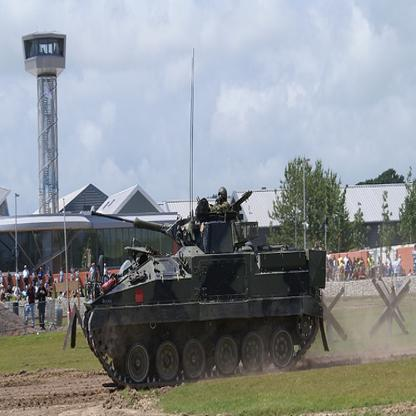Tank: (78, 188, 338, 390)
